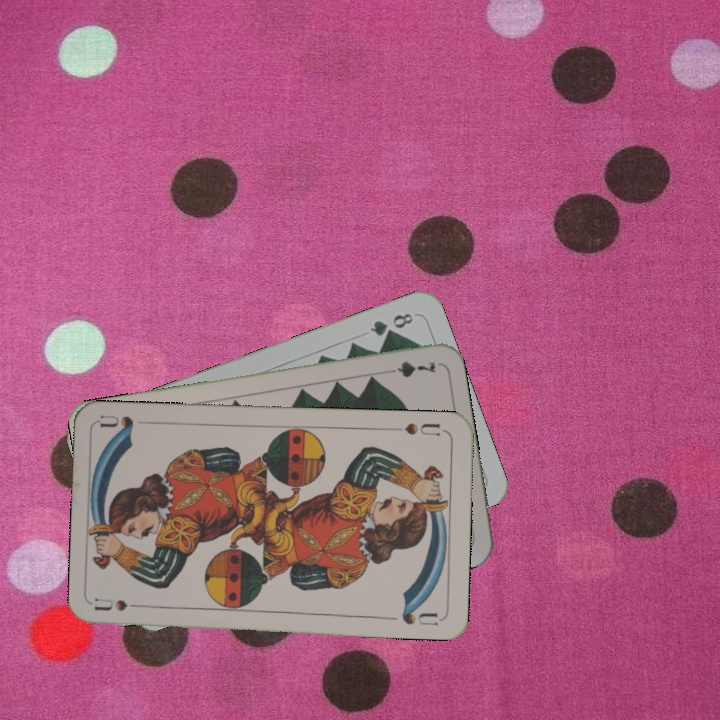G7: (379, 357, 439, 380)
G8: (365, 309, 416, 339)
SU: (93, 594, 152, 613), (388, 419, 443, 439)
